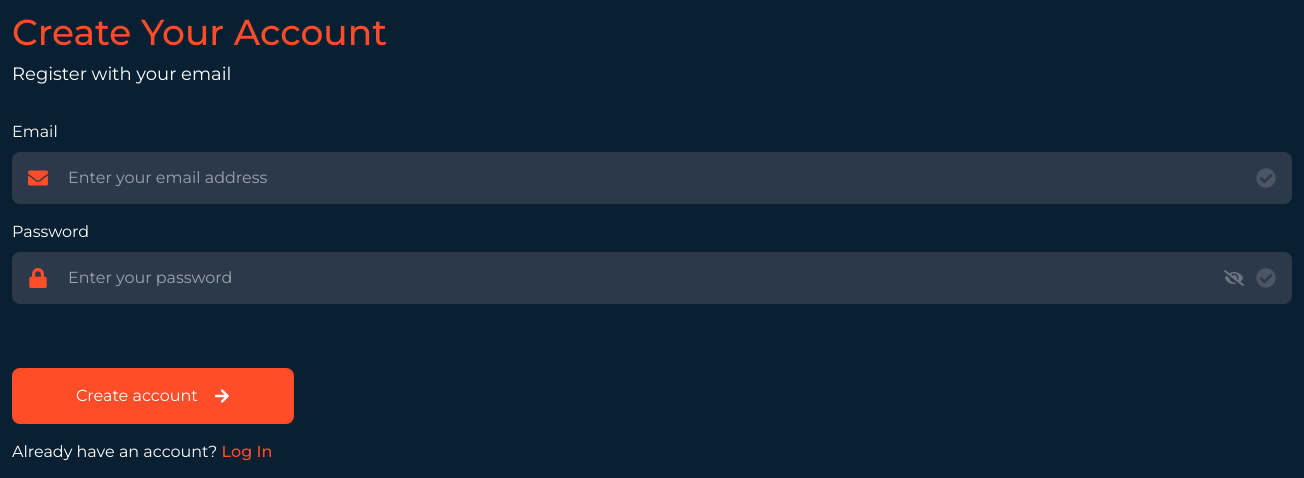
Test: should show the success message
This screenshot has width=1304, height=478.
Type "testuser@gmail.com" into the field with placeholder "Enter your email address". click: (652, 178)
box: [12, 152, 1292, 204]
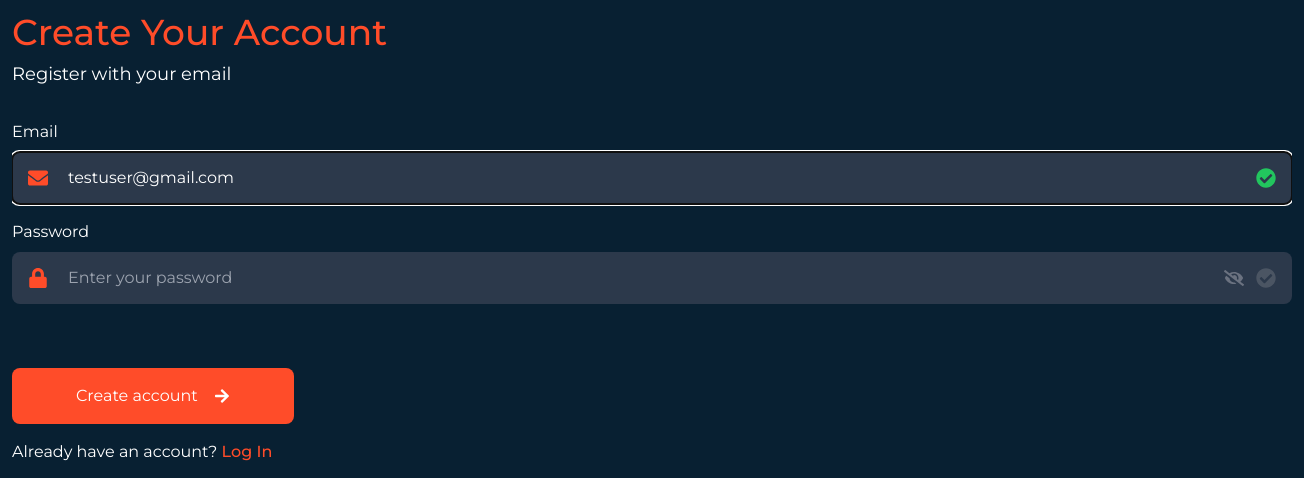
Type "Abcdefgh1" into the password field with placeholder "Enter your password". click: (652, 278)
box: [12, 252, 1292, 304]
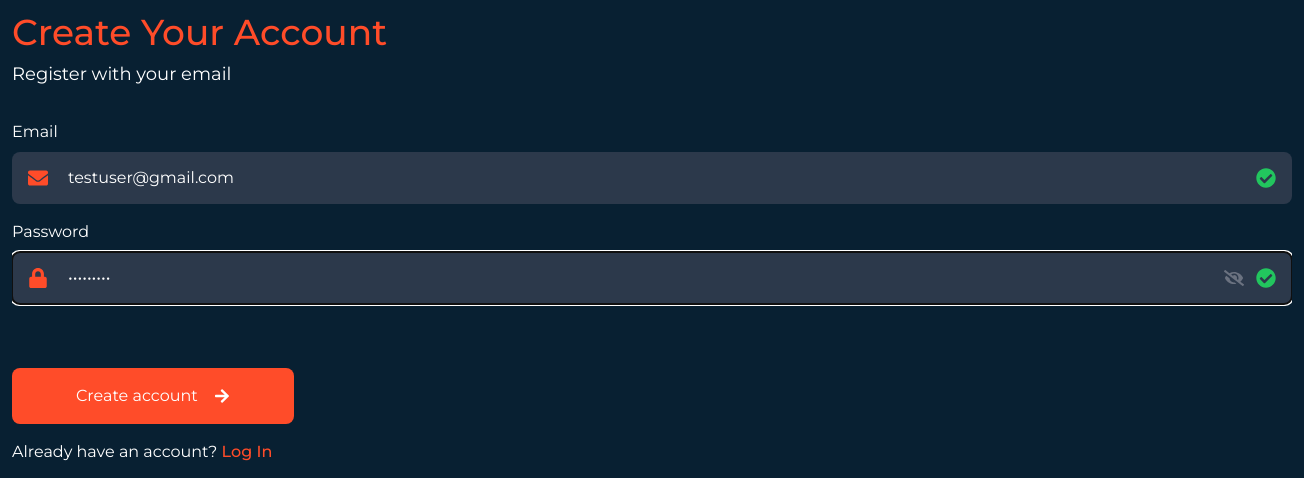
Click the button "Create account". click: (153, 396)
box: [12, 368, 294, 424]
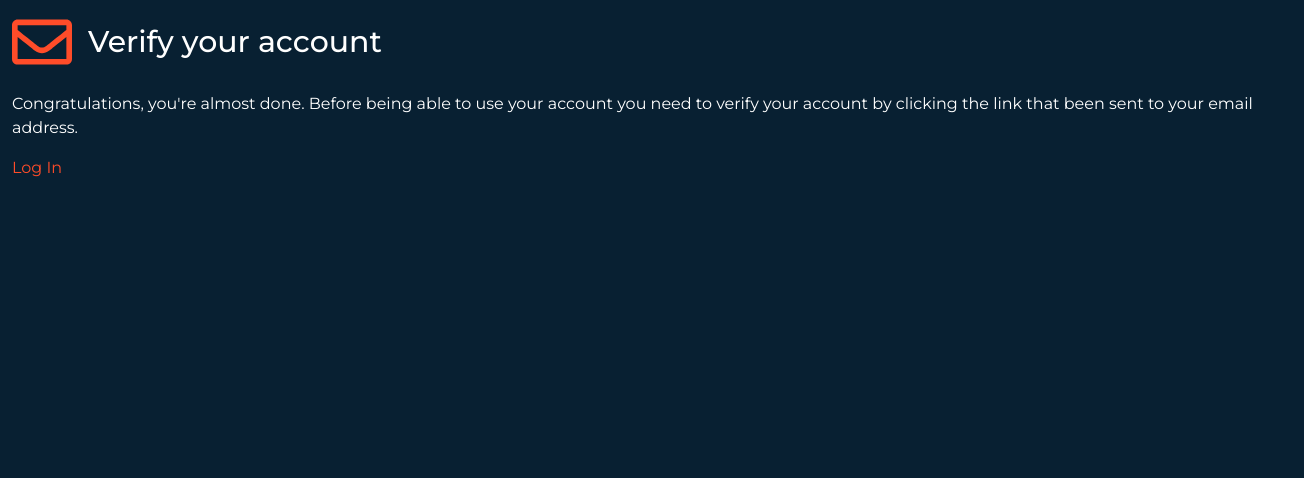
Expected: the heading "Verify your account" is shown, [88, 24, 382, 60]
Expected: the text "Congratulations, you're almost done. Before being able to use your account you need to verify your account by clicking t" is shown, [12, 94, 1253, 137]
